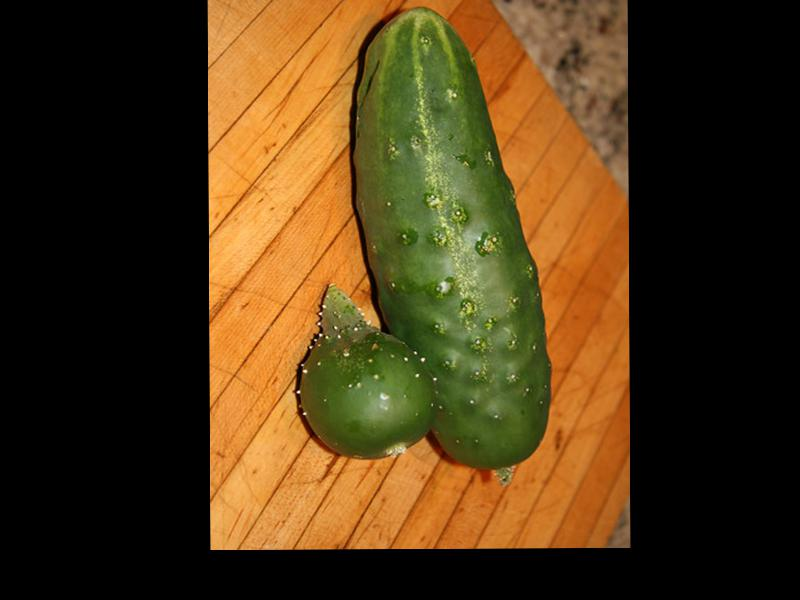Cucumber: (351, 5, 551, 471)
